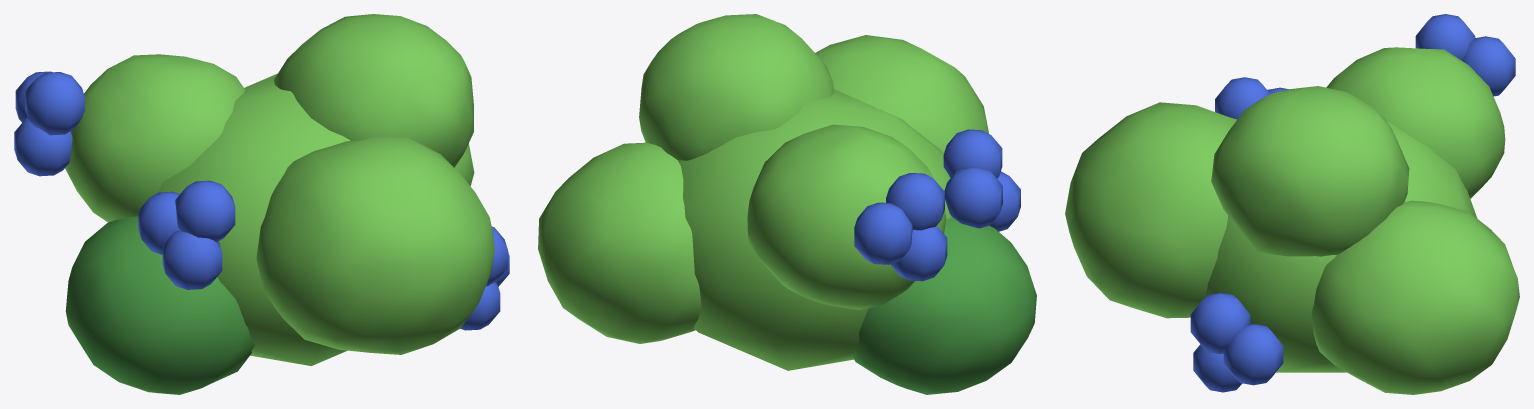
Rendered from prop_berry_plant.glb.
3 renders of one model, left to right at view 1: azimuth 30°, elevation 25°; view 2: azimuth 150°, elevation 25°; view 3: azimuth 270°, elevation 25°, orthographic. The views are drawn at different scales.
Visible parts, largest first — view 1: prop_berry_plant; view 2: prop_berry_plant; view 3: prop_berry_plant.
Boxes of the visible parts, x1,y1,x2,y2 form: prop_berry_plant: (14,14,509,394); prop_berry_plant: (538,14,1036,394); prop_berry_plant: (1065,14,1519,394).
Size of the model in its own units: 0.6843 by 0.4743 by 0.6529.
